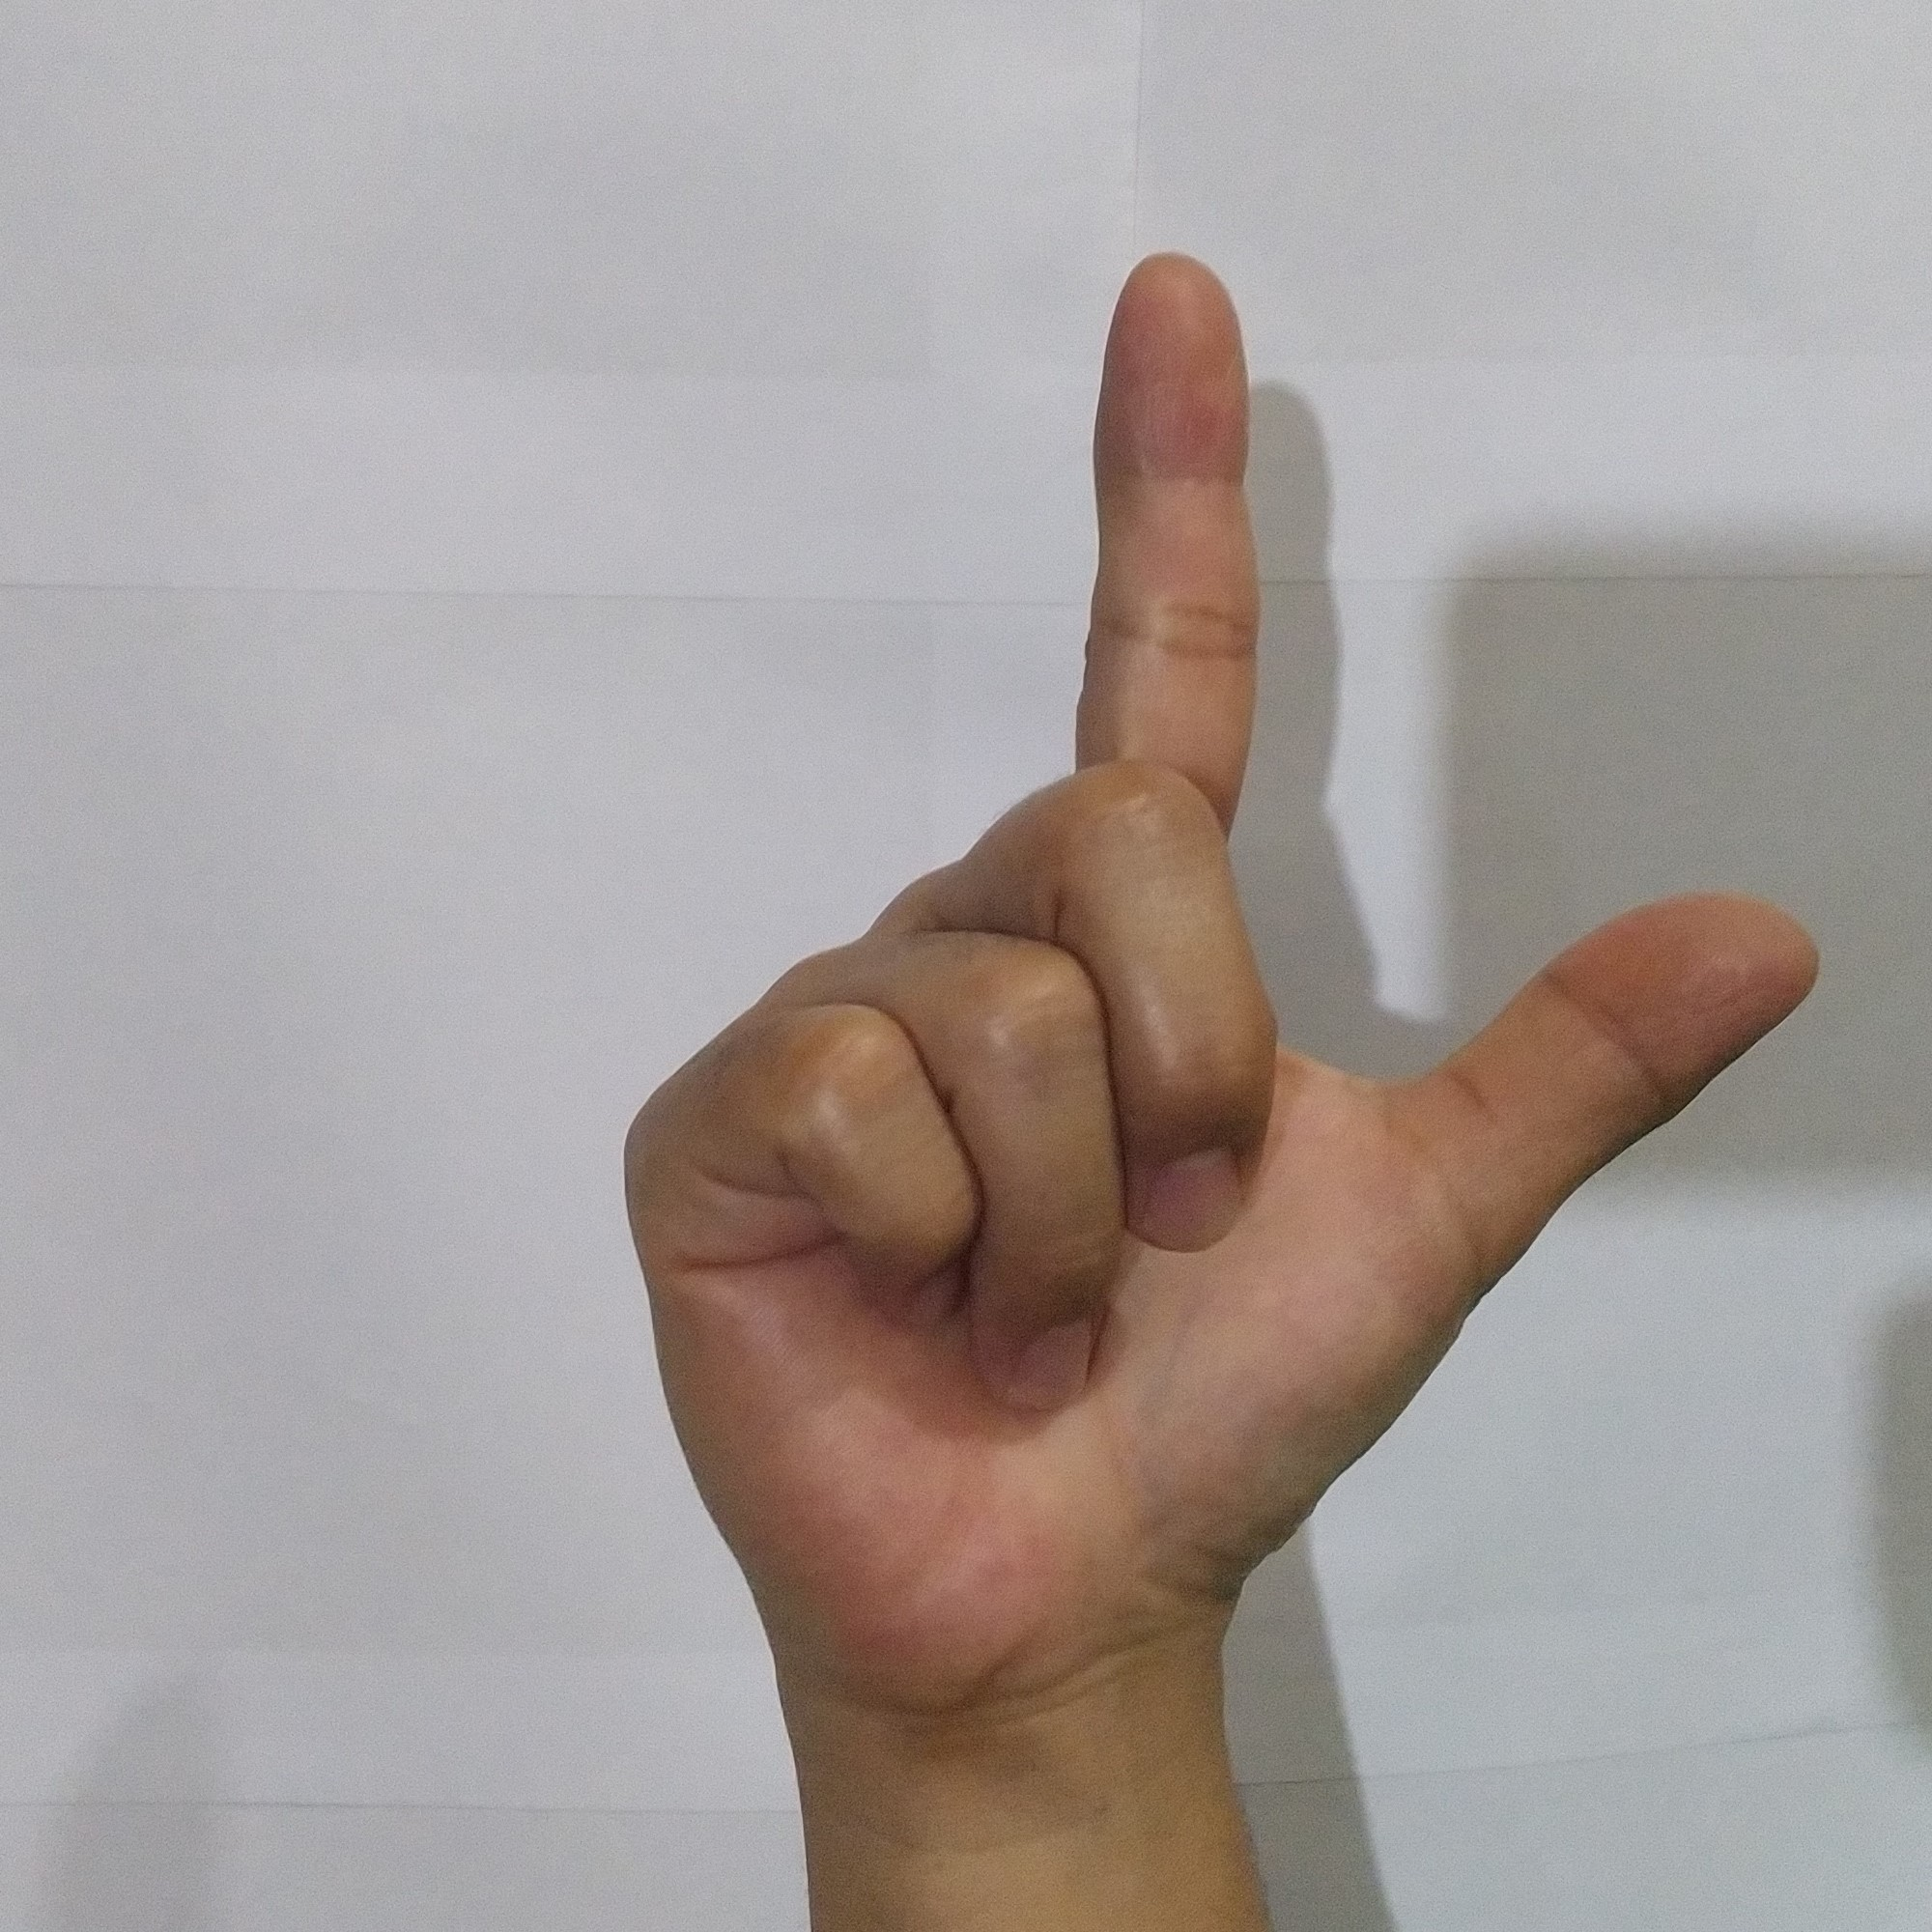L: (596, 228, 1847, 1644)
